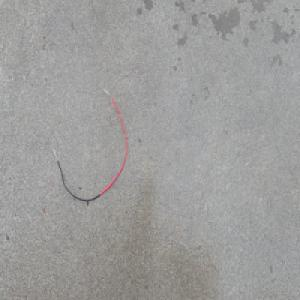Wire: (51, 87, 128, 204)
